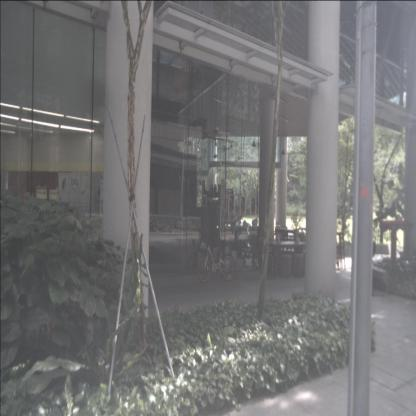human-pedestrian-adult: (240, 221, 249, 264), (250, 218, 258, 264)
vehicle-bicycle: (197, 231, 237, 283)
